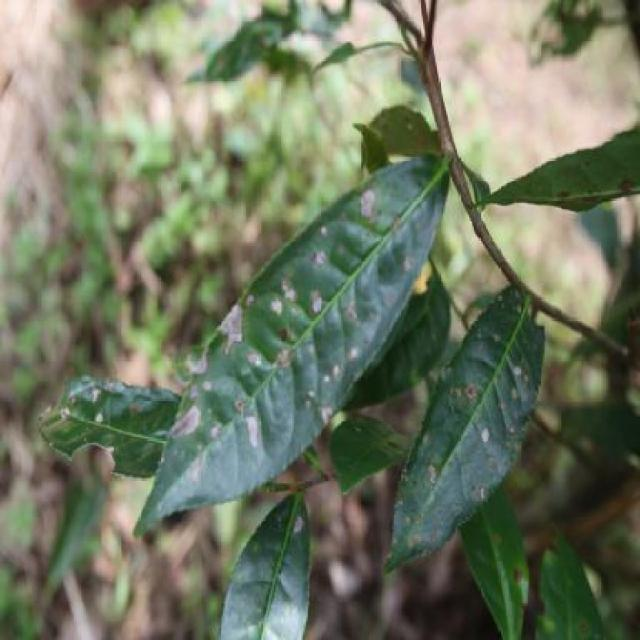Leaf rust of tea: (136, 144, 438, 496), (392, 288, 552, 560)
